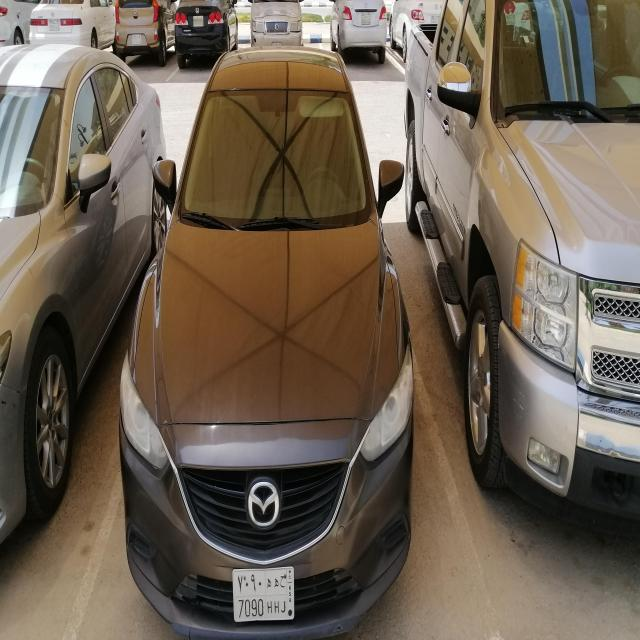license_plate: (230, 563, 297, 627), (193, 15, 204, 27), (49, 19, 59, 32), (361, 14, 371, 25), (132, 34, 142, 45), (272, 42, 282, 46)
